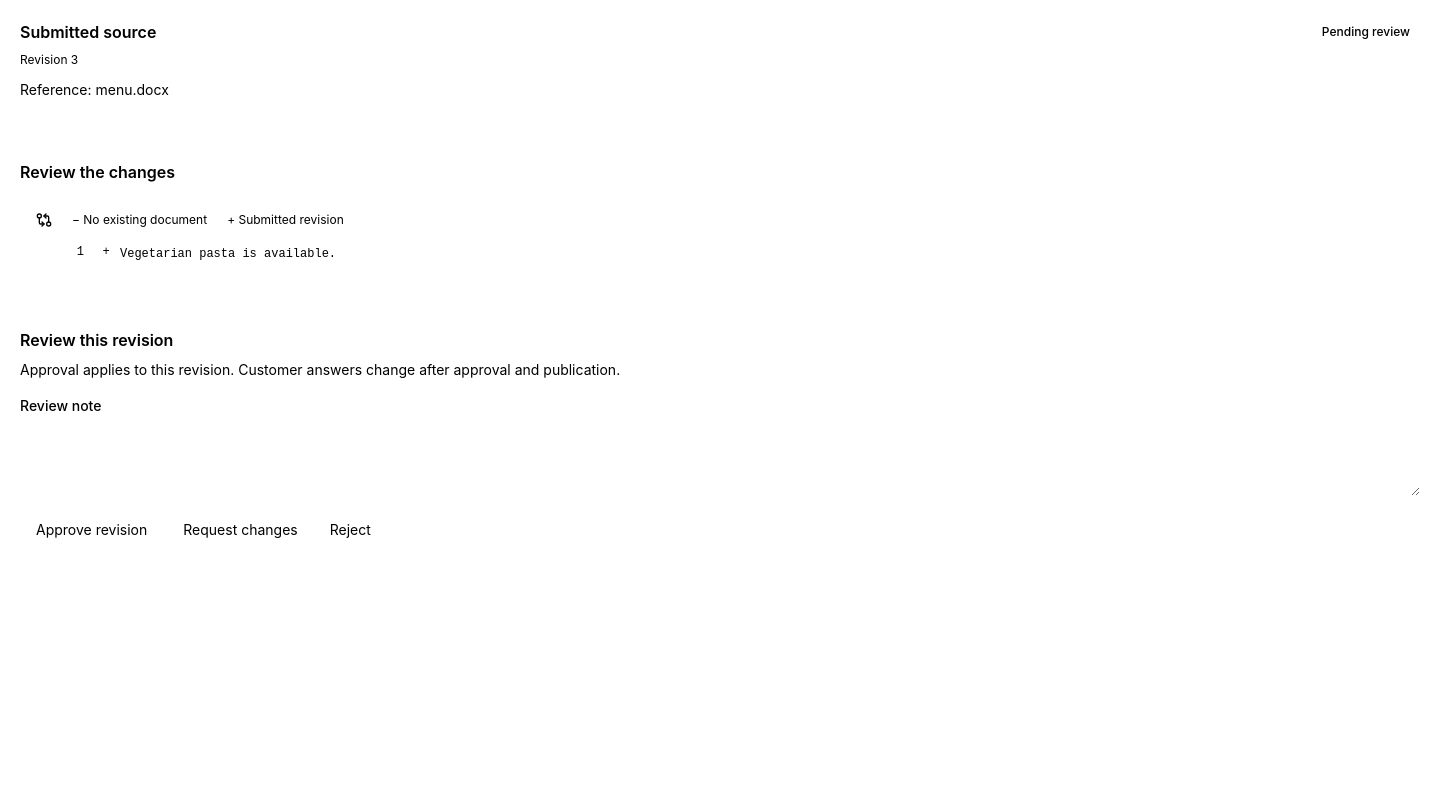
Test: knowledge document review UI › submits the displayed revision and shows a stale-review error inline
Type "Verified against the current menu." into the text box labelled "Review note". click: (720, 458)
box: [20,420,1420,496]
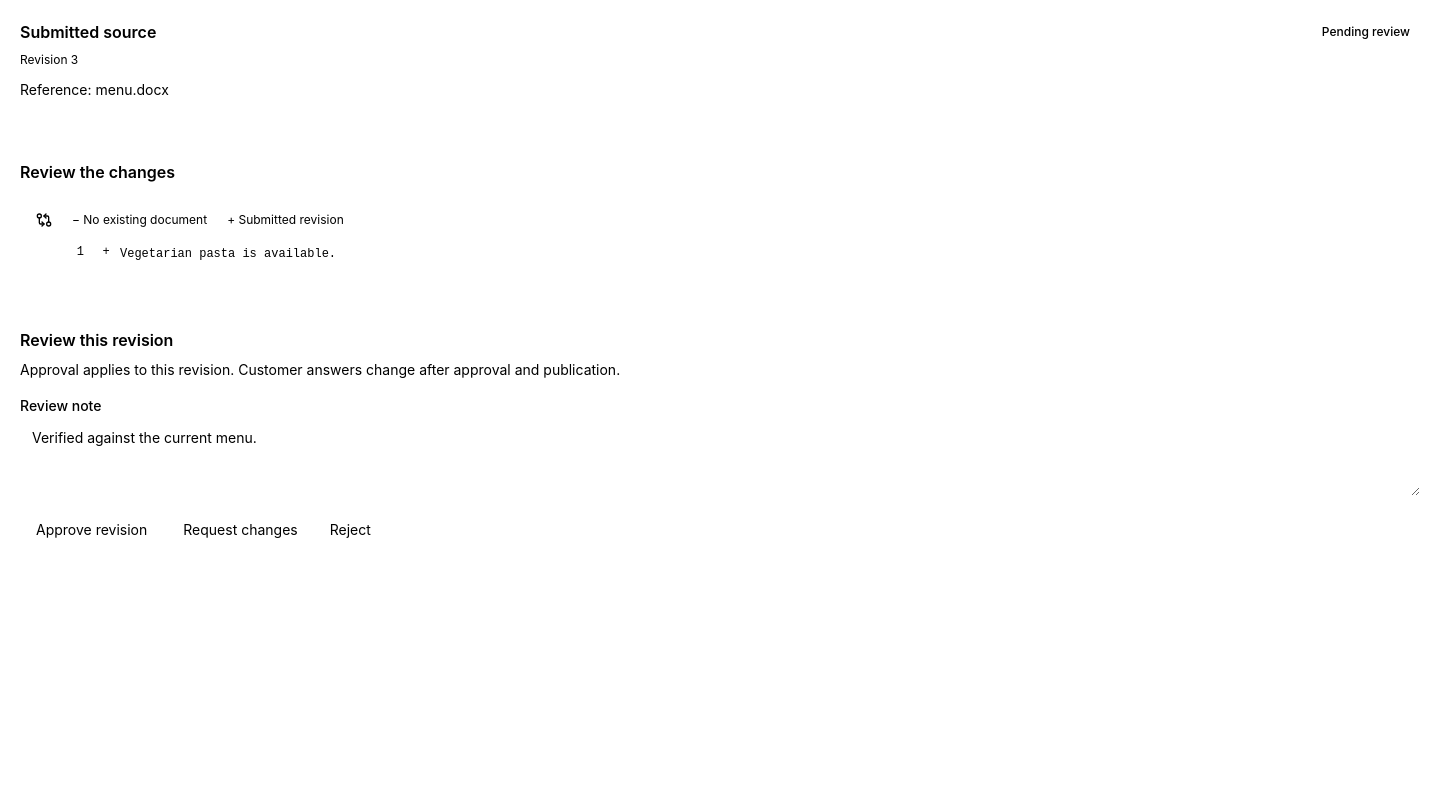
Click the button "Approve revision". click: (92, 530)
box: [20,512,163,548]
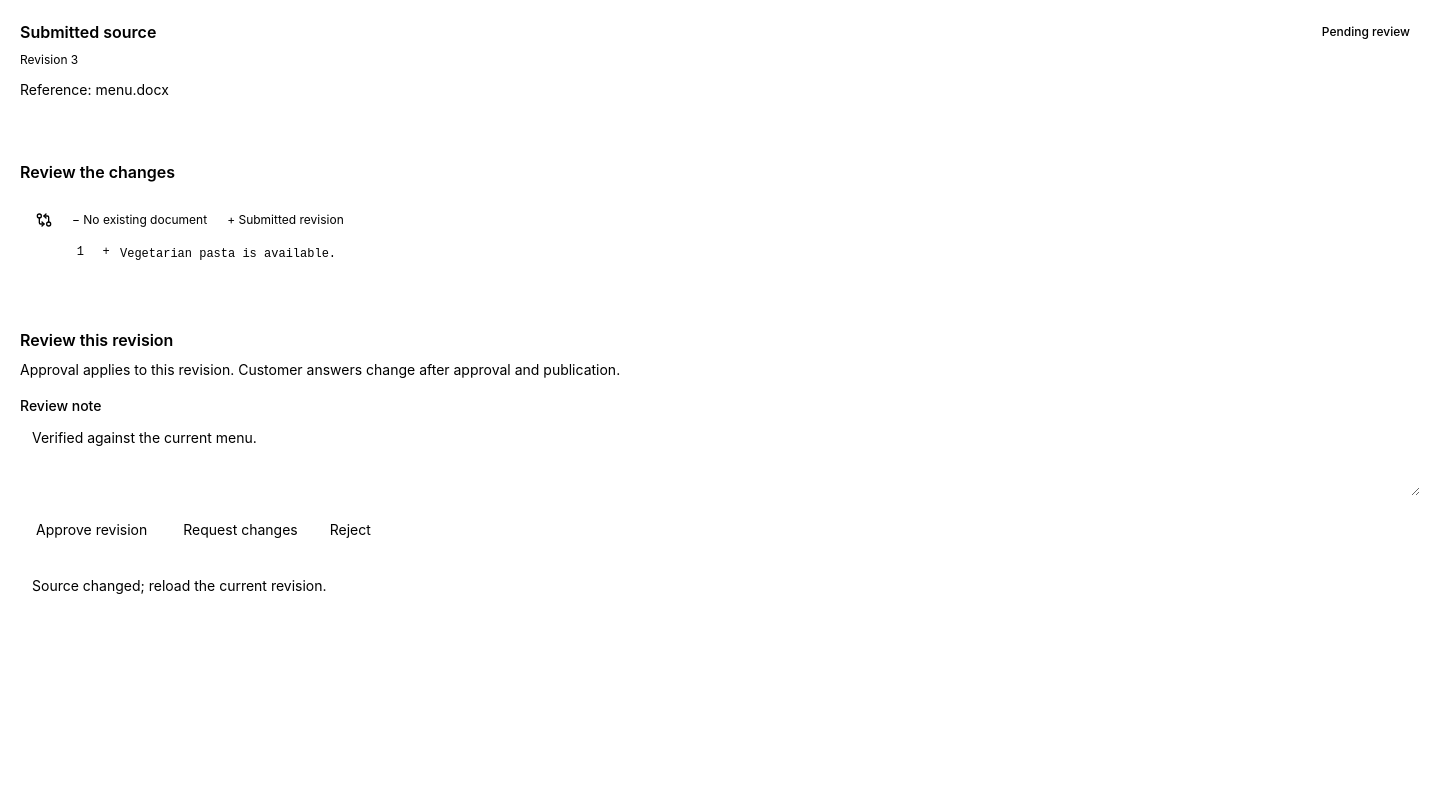
Check: the message shows "Source changed", box [32,577,327,594]
